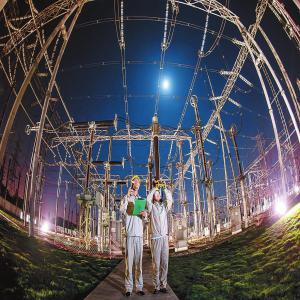yellow: (131, 175, 141, 192), (153, 187, 161, 203)
